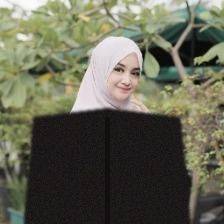Cadar_Niqab: (24, 33, 191, 224)
